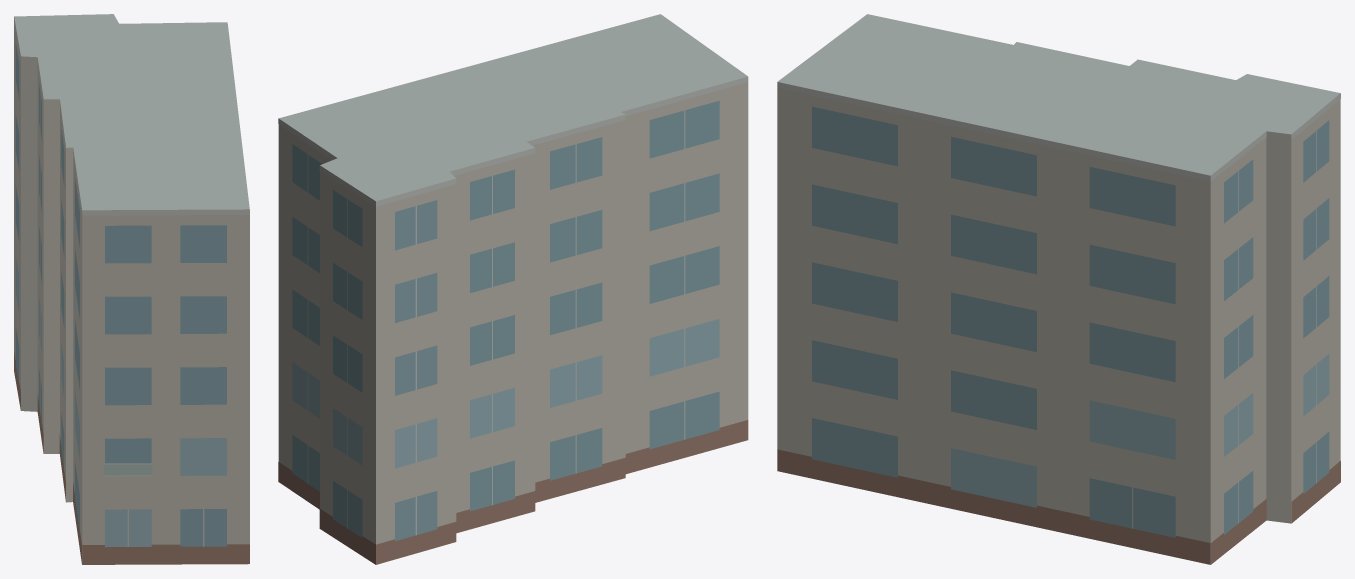
Rendered from survey-upis-32868601.glb.
The picture shows the model from 3 angles, left to right: view 1: azimuth 30°, elevation 25°; view 2: azimuth 150°, elevation 25°; view 3: azimuth 270°, elevation 25°; orthographic projection. The views are drawn at different scales.
Parts seen in each view (by area): view 1: survey-upis-32868601.tmp; view 2: survey-upis-32868601.tmp; view 3: survey-upis-32868601.tmp.
Part boxes in pixels (<box>): survey-upis-32868601.tmp: <box>14,14,249,564</box>; survey-upis-32868601.tmp: <box>278,14,748,564</box>; survey-upis-32868601.tmp: <box>777,14,1340,564</box>.
Size of the model in its own units: 14.22 by 15.95 by 20.94.
